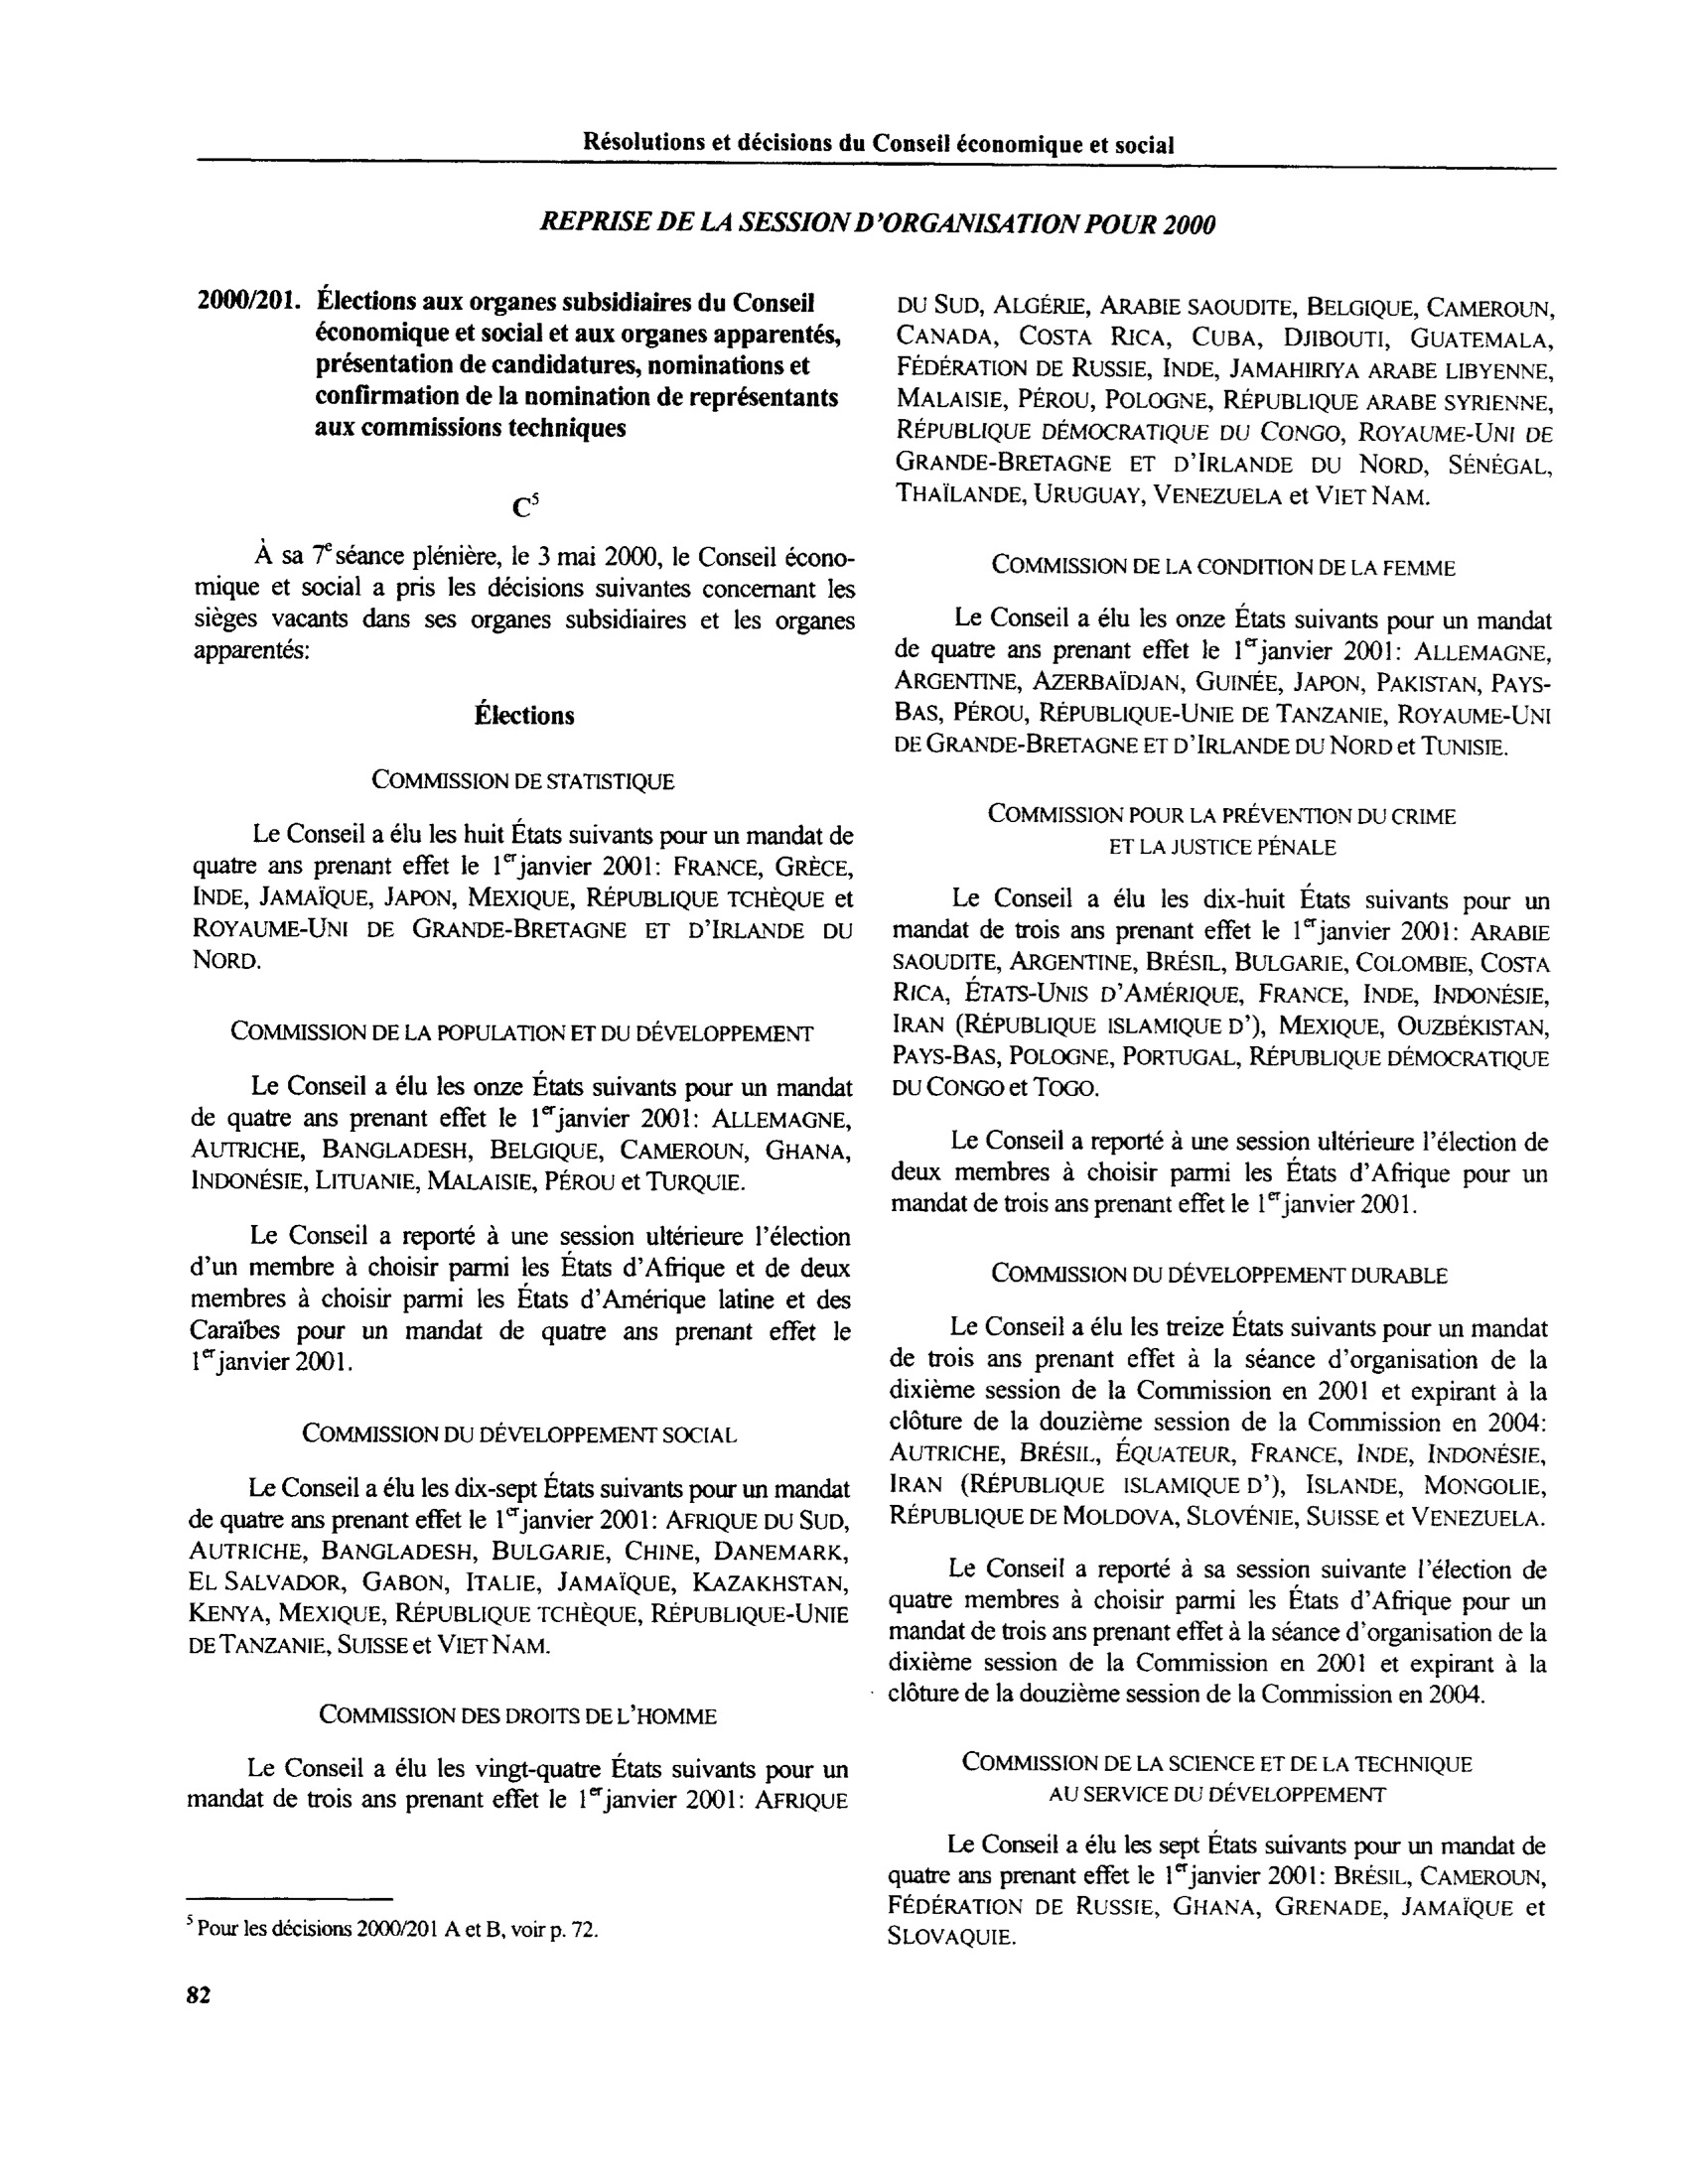MainZone-Head: (888, 283, 1560, 519), (189, 280, 850, 449), (947, 1741, 1485, 1815), (526, 197, 1227, 250), (975, 796, 1468, 867), (184, 1011, 837, 1054), (980, 543, 1465, 586), (981, 1251, 1455, 1294), (296, 1413, 749, 1455), (312, 1696, 725, 1737), (364, 760, 684, 801), (464, 692, 585, 740), (507, 487, 543, 527)
MainZone-P: (886, 882, 1559, 1110), (883, 1307, 1554, 1535), (180, 1470, 856, 1665), (886, 601, 1561, 769), (183, 1217, 858, 1385), (185, 816, 861, 983), (883, 1552, 1556, 1718), (185, 534, 861, 671), (878, 1825, 1557, 1961), (182, 1067, 860, 1200), (884, 1122, 1557, 1229), (182, 1747, 855, 1828)
MarginTextZone-Notes: (178, 1904, 611, 1951)
NumberingZone: (181, 1979, 218, 2011)
RunningTitleZone: (572, 118, 1185, 169)
